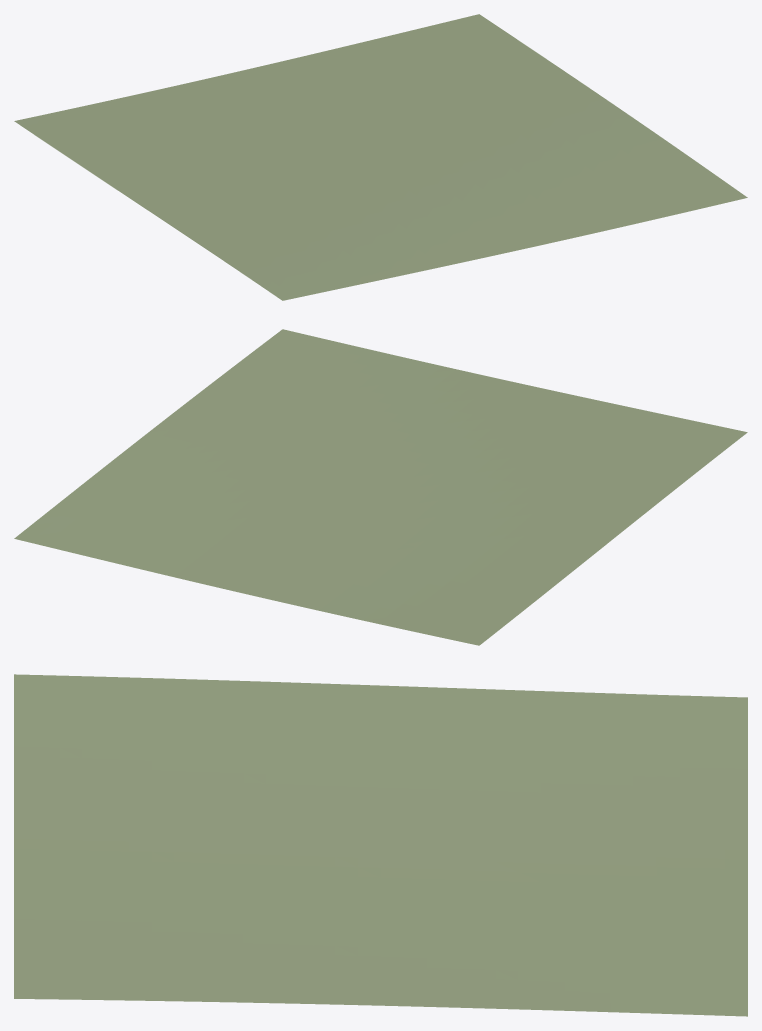
Rendered from expanse-0-8.glb.
The picture shows the model from 3 angles, top to bottom: view 1: azimuth 30°, elevation 25°; view 2: azimuth 150°, elevation 25°; view 3: azimuth 270°, elevation 25°; orthographic projection. The views are drawn at different scales.
Visible parts, largest first — view 1: expanse-0-8; view 2: expanse-0-8; view 3: expanse-0-8.
Boxes of the visible parts, bbox=[...] form: expanse-0-8: bbox=[14, 14, 747, 300]; expanse-0-8: bbox=[14, 329, 747, 645]; expanse-0-8: bbox=[14, 674, 747, 1016].
Size of the model in its own units: 256 by 12.28 by 256.
